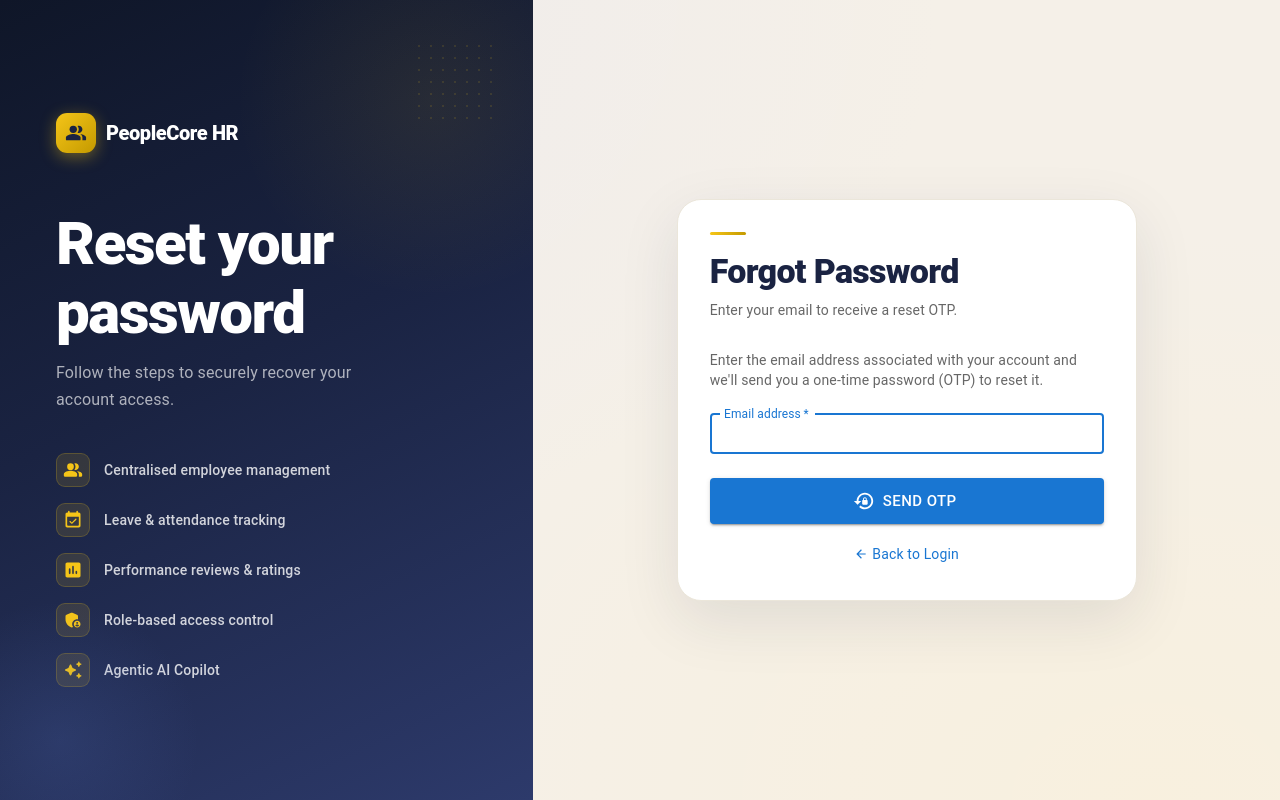
Scenario: ForgotPasswordPage › Email step › shows required error when email is blank
This screenshot has width=1280, height=800.
What coordinates should you click on to do the following:
click the button "Send OTP"
I would click on:
 (907, 501)
Its box is top-left (710, 478), bottom-right (1104, 524).
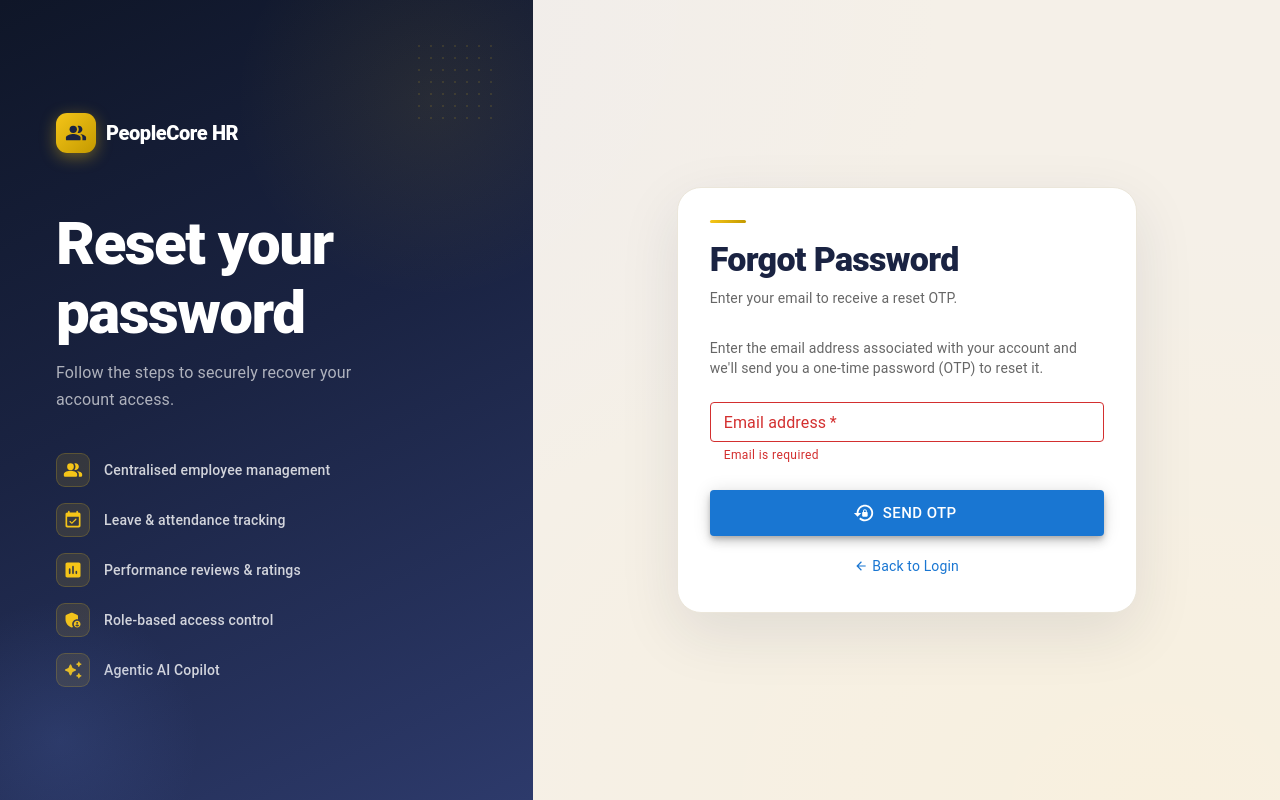
Result: the text "Email is required" is shown at top-left (724, 448), bottom-right (819, 462)
